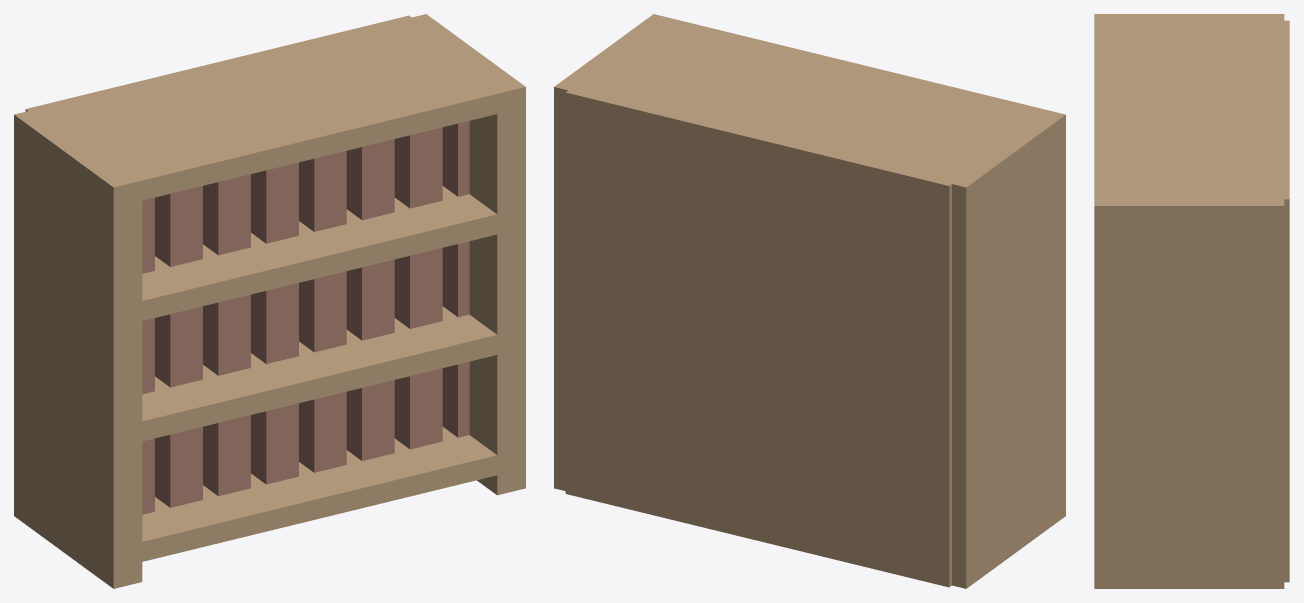
Rendered from voxel-city-districts-bookcase-132890d0__24878.glb.
3 views of the same model, side by side, from view 1: azimuth 30°, elevation 25°; view 2: azimuth 150°, elevation 25°; view 3: azimuth 270°, elevation 25° (orthographic). The views are drawn at different scales.
Parts seen in each view (by area): view 1: bookcase-wood, bookcase-roof; view 2: bookcase-wood; view 3: bookcase-wood.
Part boxes in pixels (<box>): bookcase-wood: <box>14,14,525,588</box>; bookcase-roof: <box>142,121,469,514</box>; bookcase-wood: <box>554,14,1065,588</box>; bookcase-wood: <box>1094,14,1289,588</box>.
Bounding box in the file's own units: 2.15 × 2 × 0.925.
